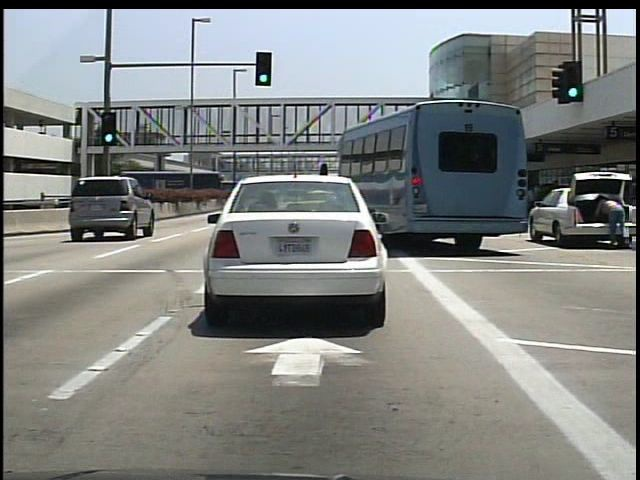person: (591, 190, 627, 253)
